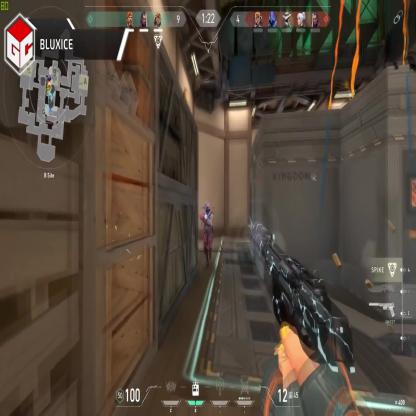enemy: (202, 202, 214, 265)
enemy_head: (206, 202, 211, 214)
